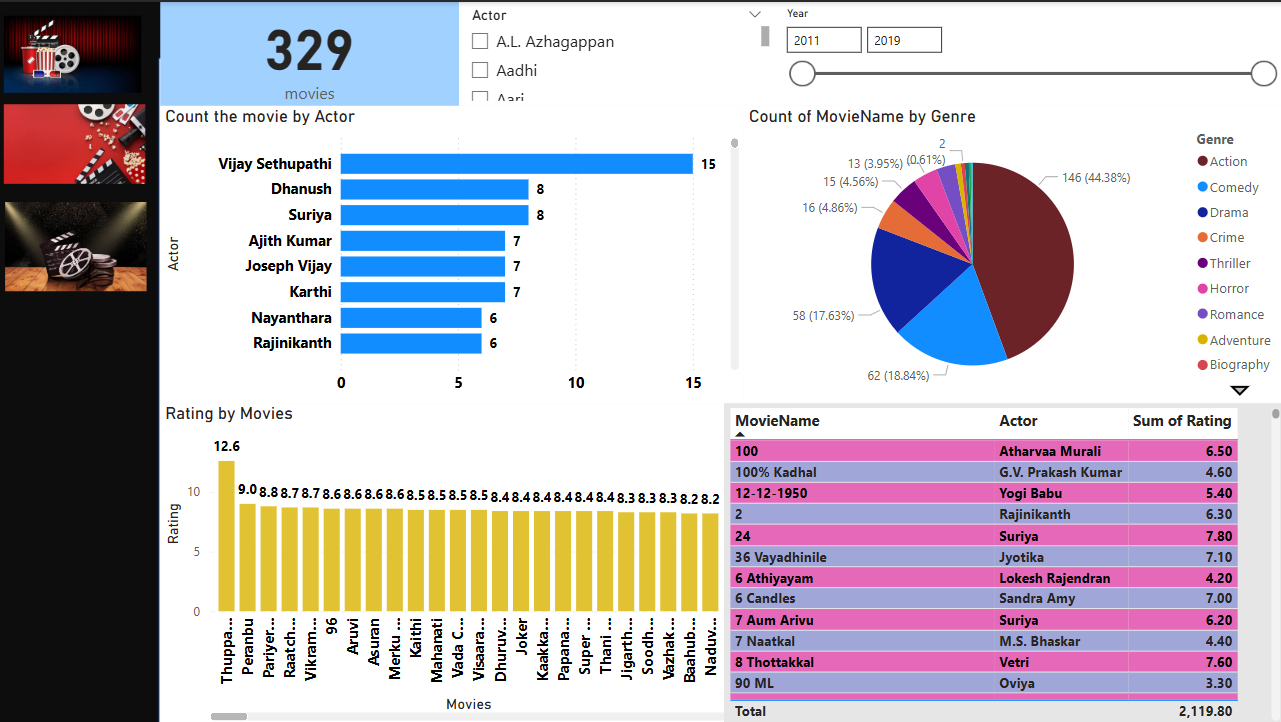

The page's visual inventory and layout, read from the dashboard file:
{"tool":"powerbi","page":{"name":"Page 1","canvas":[1280,720],"ordinal":0},"visuals":[{"type":"clusteredBarChart","fields":{"Category":["Tamil_movies_dataset.Actor"],"Y":["Tamil_movies_dataset.Year"]},"box":[107.1,102.6,610.9,295.3],"z":0},{"type":"card","fields":{"Values":["Tamil_movies_dataset.MovieName"]},"box":[107.1,0,313.3,103.7],"z":1000},{"type":"image","box":[0,0,102.6,87.9],"z":2000},{"type":"pieChart","fields":{"Category":["Tamil_movies_dataset.Genre"],"Y":["Tamil_movies_dataset.MovieName"]},"box":[718,66.5,554.5,296.4],"z":3000},{"type":"clusteredColumnChart","fields":{"Category":["Tamil_movies_dataset.MovieName"],"Y":["Tamil_movies_dataset.Rating"]},"box":[107.1,397.9,610.9,321.2],"z":4000},{"type":"tableEx","fields":{"Values":["Tamil_movies_dataset.MovieName","Tamil_movies_dataset.Actor","Tamil_movies_dataset.Rating"]},"box":[718,362.9,561.3,356.2],"z":5000},{"type":"slicer","fields":{"Values":["Tamil_movies_dataset.Year"]},"box":[771.3,0,508.8,103.2],"z":6000},{"type":"slicer","fields":{"Values":["Tamil_movies_dataset.Actor"]},"box":[420.4,0,350.5,103.7],"z":7000},{"type":"image","box":[0,65.4,107.1,93.6],"z":8000},{"type":"image","box":[9,437.3,90.2,131.9],"z":9000},{"type":"image","box":[12.4,279.5,78.9,149.9],"z":10000},{"type":"image","box":[6.8,582.7,100.3,137.5],"z":11000},{"type":"image","box":[0,147.7,102.6,131.9],"z":12000}]}

Visuals, with their boxes in screenshot pixels (x1, y1, x2, y2), scaled from the page's 1280x720 canvas onto the 1281x722 screenshot:
clusteredBarChart - Tamil_movies_dataset.Actor x Tamil_movies_dataset.Year: region(107, 103, 719, 399)
card - Tamil_movies_dataset.MovieName: region(107, 0, 421, 104)
image: region(0, 0, 103, 88)
pieChart - Tamil_movies_dataset.Genre x Tamil_movies_dataset.MovieName: region(719, 67, 1273, 364)
clusteredColumnChart - Tamil_movies_dataset.MovieName x Tamil_movies_dataset.Rating: region(107, 399, 719, 721)
tableEx - Tamil_movies_dataset.MovieName x Tamil_movies_dataset.Actor: region(719, 364, 1280, 721)
slicer - Tamil_movies_dataset.Year: region(772, 0, 1280, 103)
slicer - Tamil_movies_dataset.Actor: region(421, 0, 772, 104)
image: region(0, 66, 107, 159)
image: region(9, 439, 99, 571)
image: region(12, 280, 91, 431)
image: region(7, 584, 107, 721)
image: region(0, 148, 103, 280)
